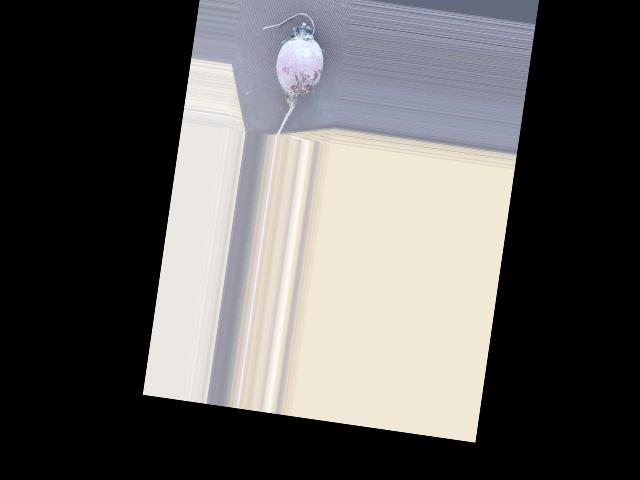beet: (247, 8, 330, 142)
